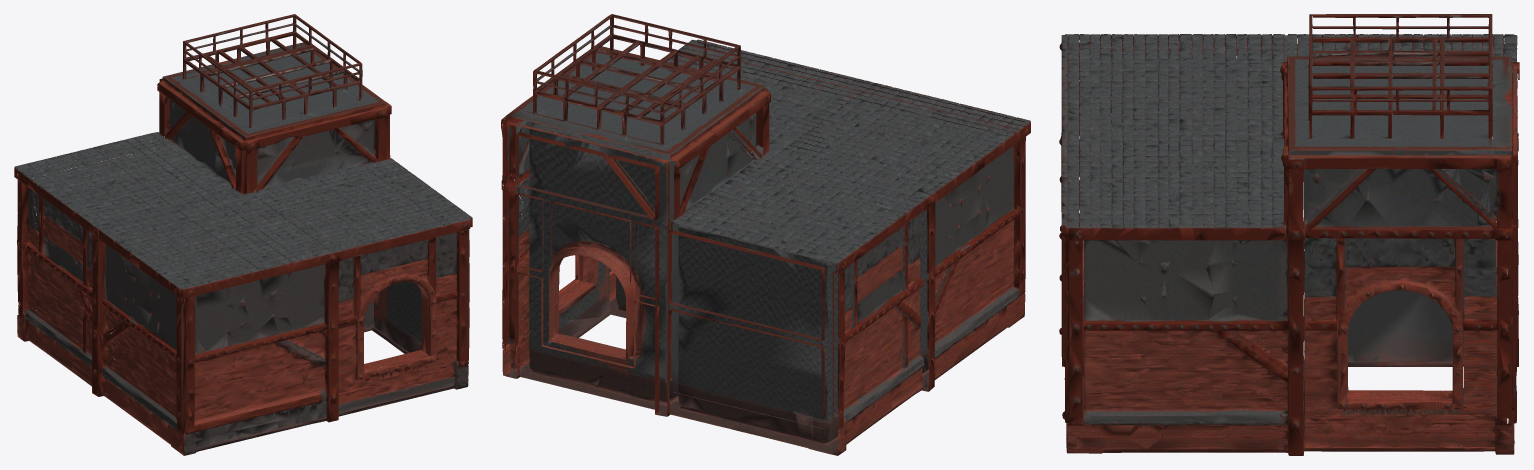
The model's file is foundry_bay.glb.
3 renders of one model, left to right at view 1: azimuth 30°, elevation 25°; view 2: azimuth 150°, elevation 25°; view 3: azimuth 270°, elevation 25°, orthographic. The views are drawn at different scales.
Size of the model in its own units: 1.9 by 1.61 by 1.89.
Materials: 1 (1 with a texture image).
